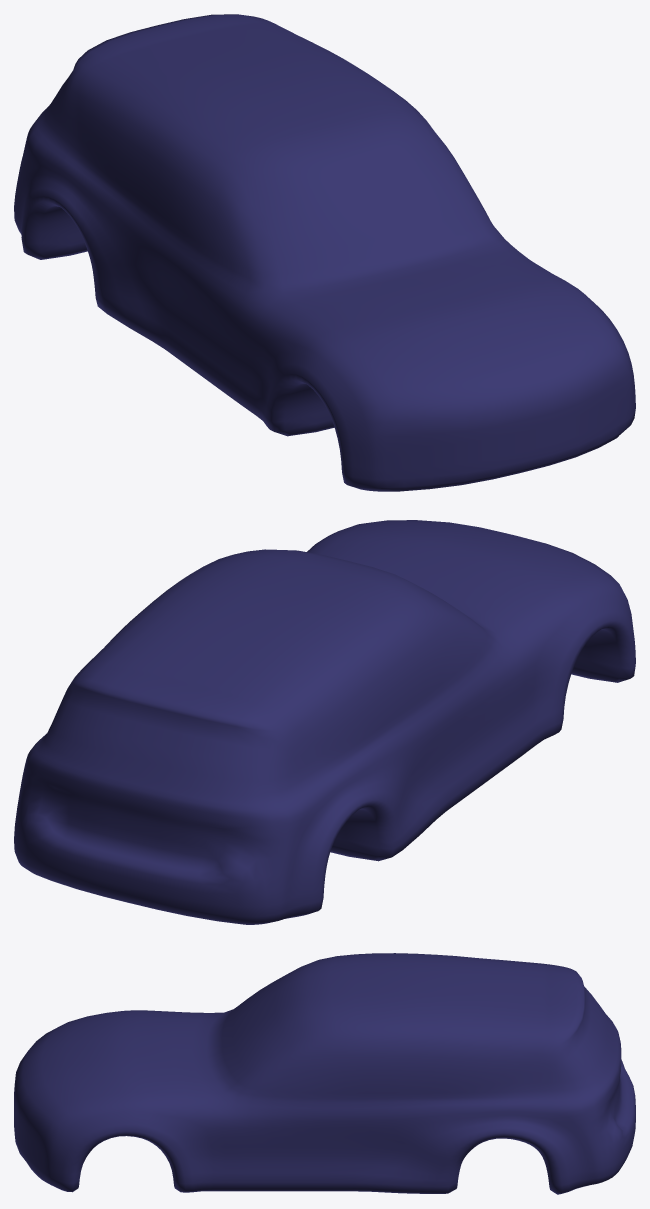
The model's file is BMW118selectShell.fbx.
3 renders of one model, top to bottom at view 1: azimuth 30°, elevation 25°; view 2: azimuth 150°, elevation 25°; view 3: azimuth 270°, elevation 25°, orthographic. The views are drawn at different scales.
Parts seen in each view (by area): view 1: BMW118_selectShell; view 2: BMW118_selectShell; view 3: BMW118_selectShell.
Boxes of the visible parts, x1,y1,x2,y2 form: BMW118_selectShell: (14,14,635,491); BMW118_selectShell: (14,520,635,924); BMW118_selectShell: (14,953,635,1194).
Size of the model in its own units: 9.4 by 6.36 by 21.81.
